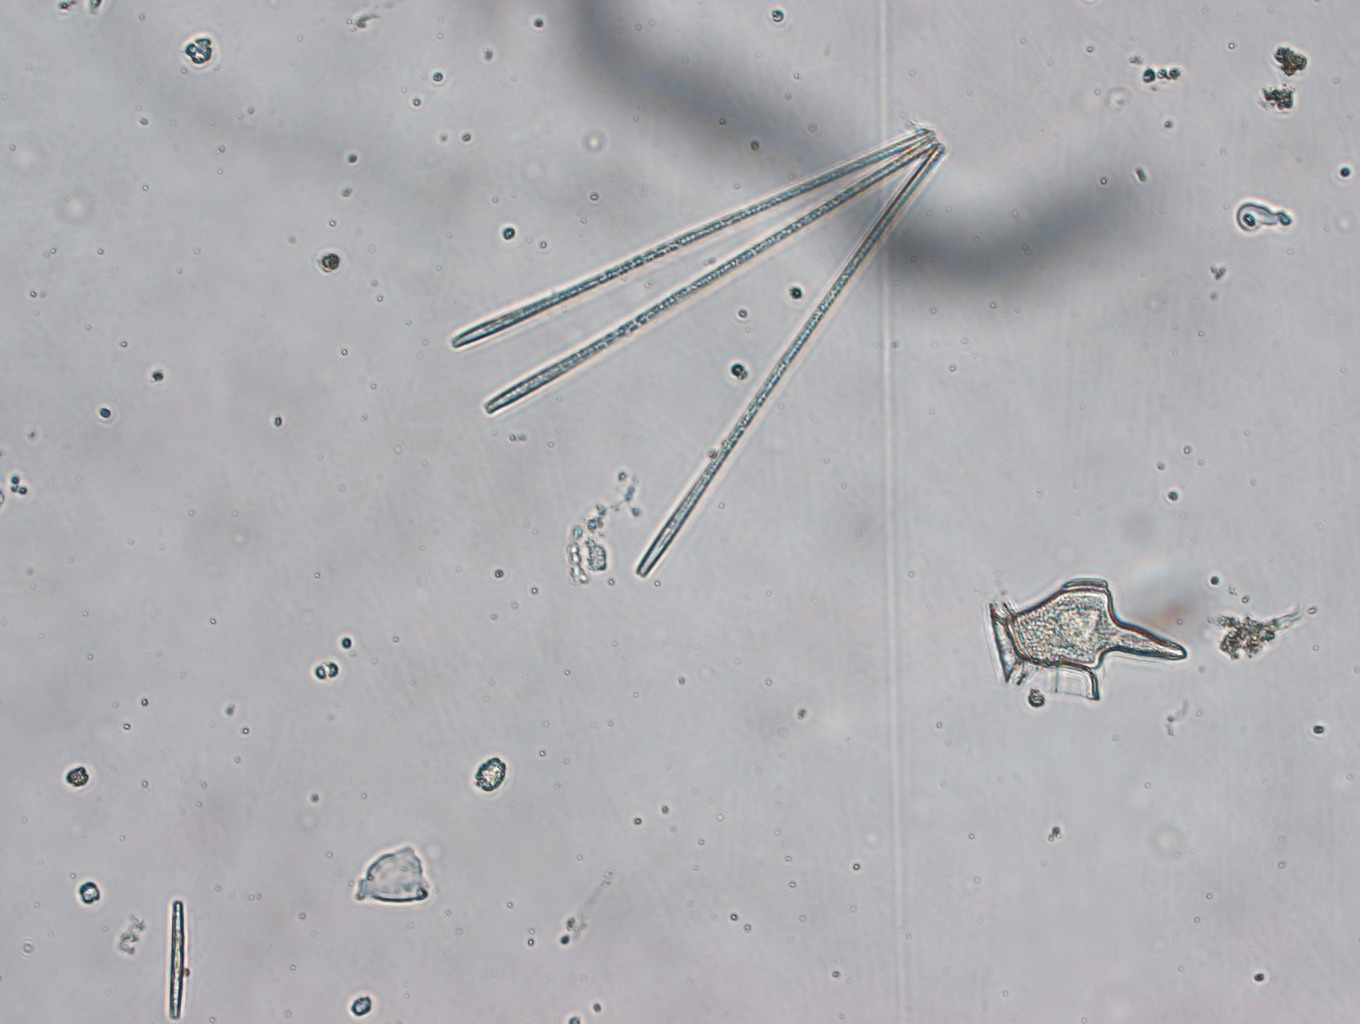dinophysis caudata: (989, 575, 1200, 713)
thalassionema frauenfeldii: (442, 124, 946, 575)
